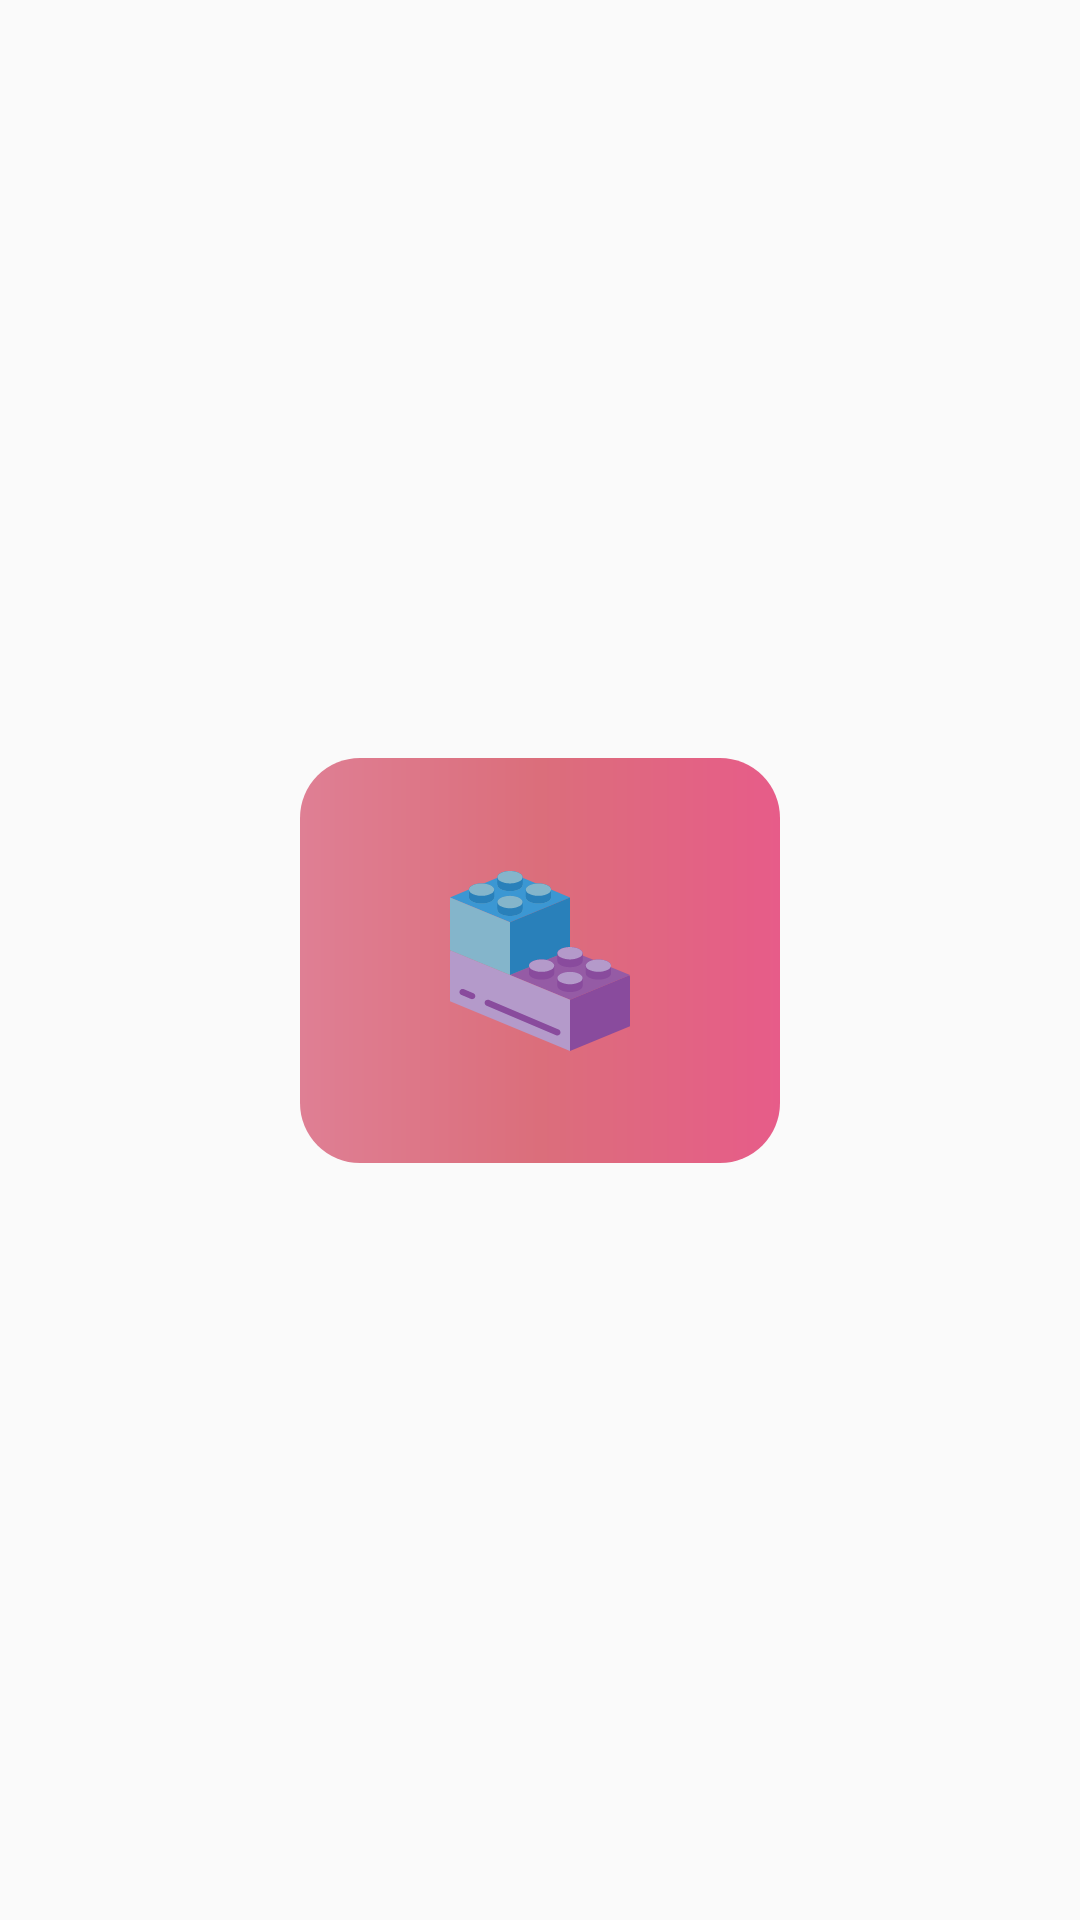

Icon click points for this 1080x1920 phone screenshot, format [x,y]:
blocks: [540,961]
